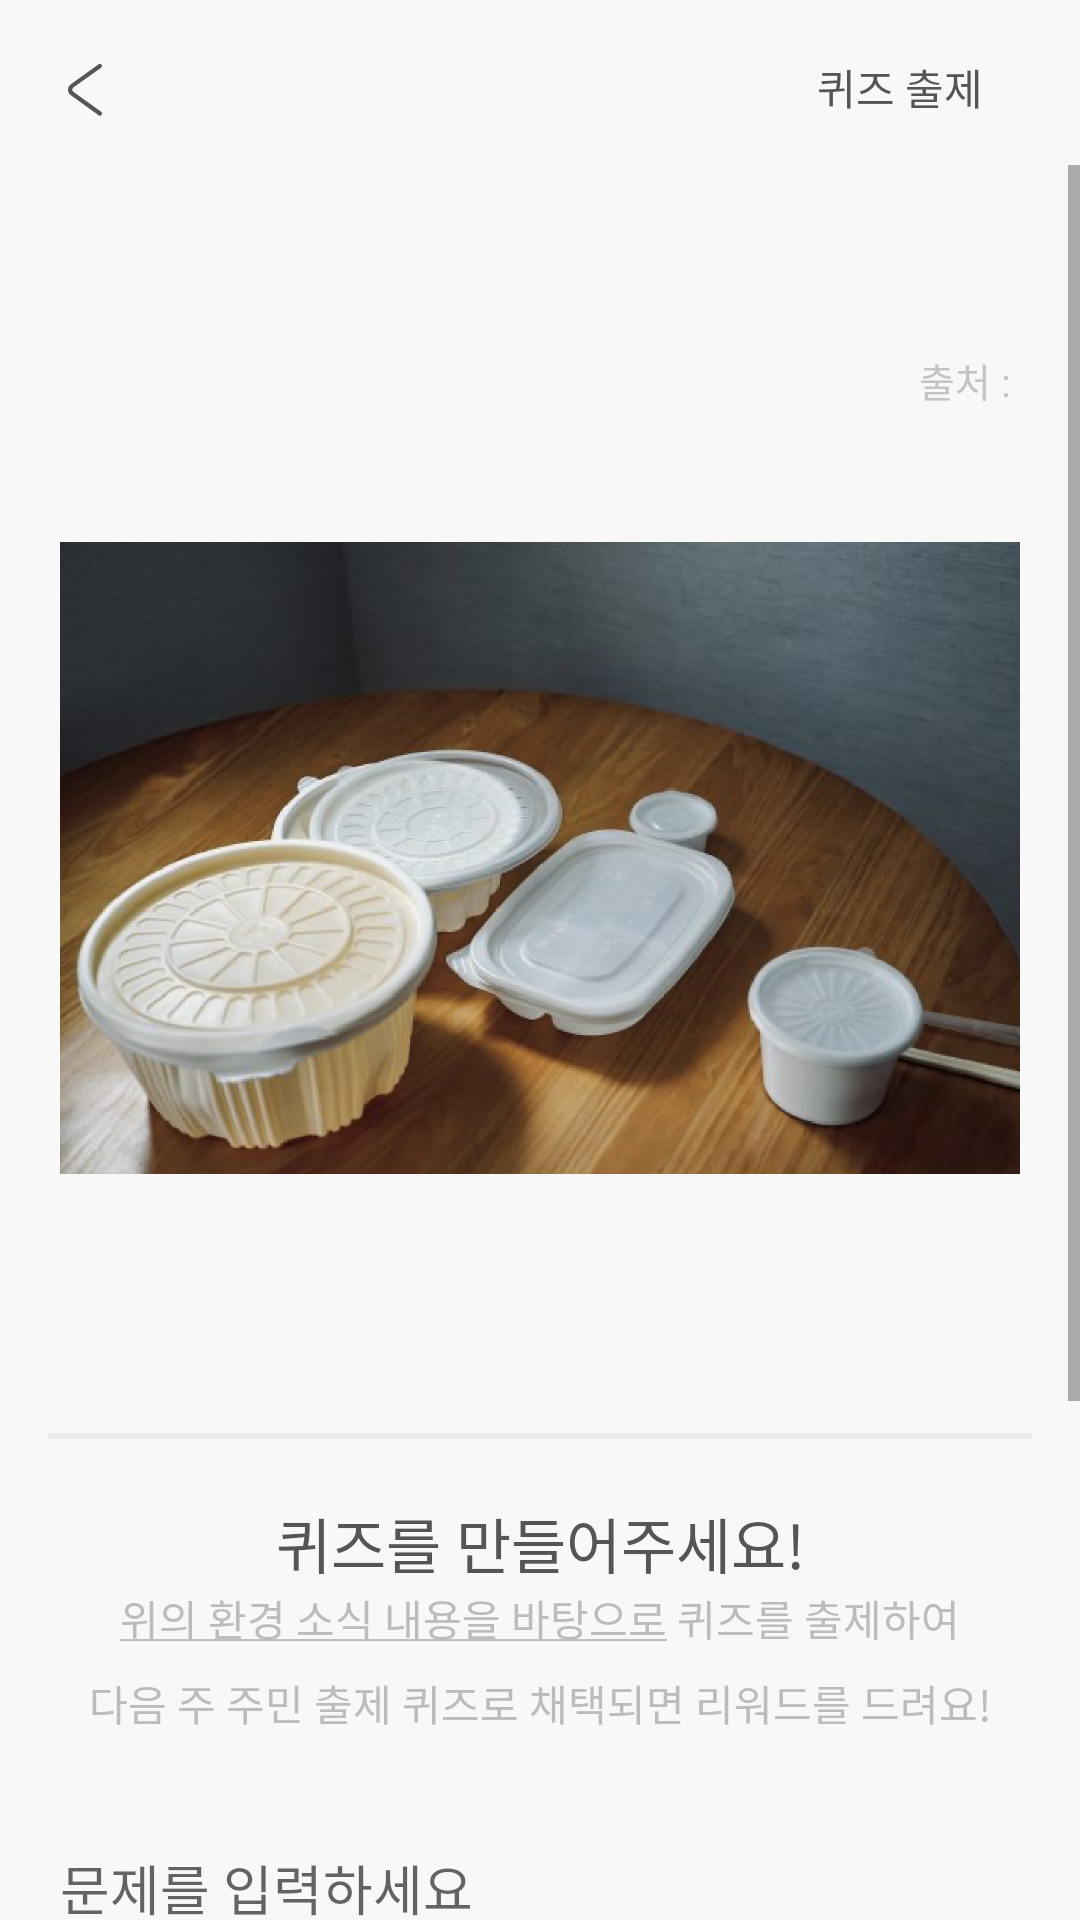

Icons on this 1080w x 1920h Android screen, each with its box as [x1, y1, x2, y2]:
arrow back: [68, 64, 102, 116]
